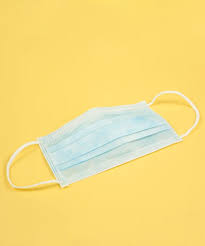flumask: (42, 101, 174, 175)
